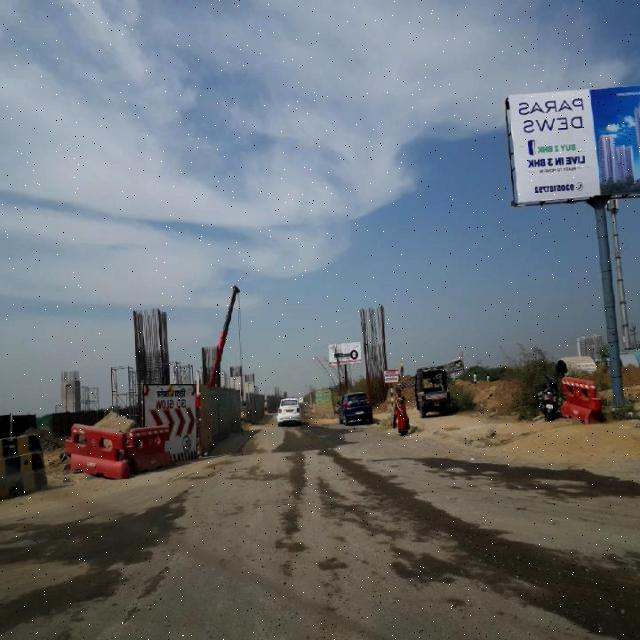D40: (336, 461, 524, 583)
